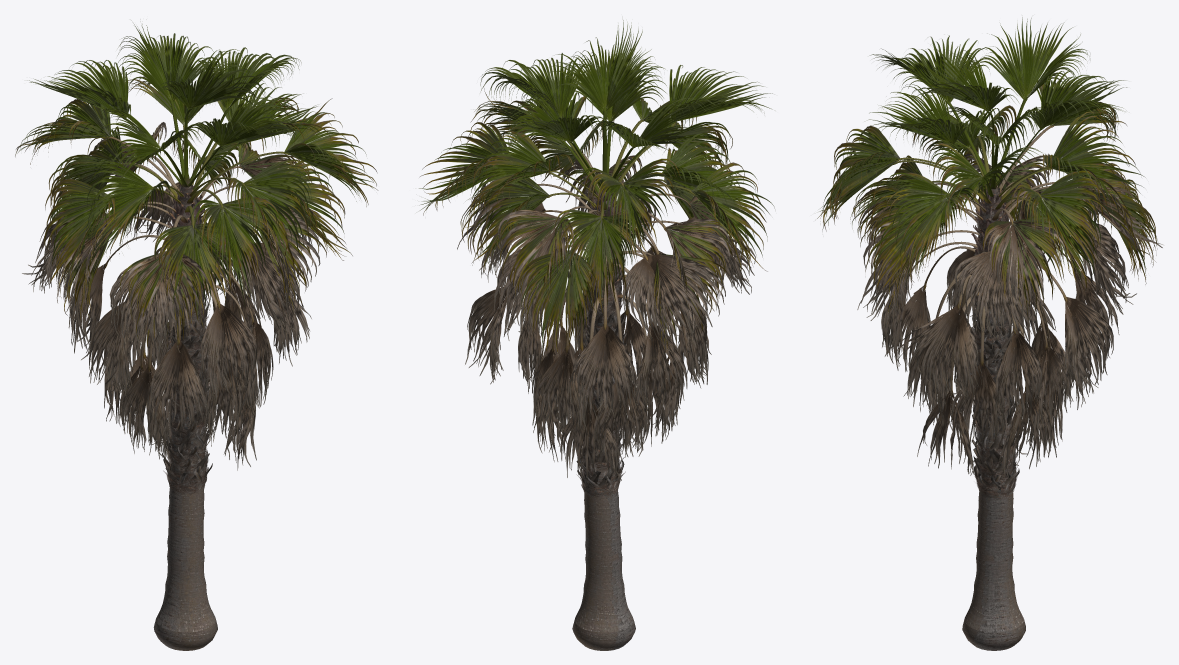
Rendered from palmier-washingtonia-2.glb.
3 renders of one model, left to right at view 1: azimuth 30°, elevation 25°; view 2: azimuth 150°, elevation 25°; view 3: azimuth 270°, elevation 25°, orthographic.
Parts seen in each view (by area): view 1: Washingtonia_Robusta_3; view 2: Washingtonia_Robusta_3; view 3: Washingtonia_Robusta_3.
Boxes of the visible parts, x1=… form: Washingtonia_Robusta_3: x1=15, y1=23, x2=378, y2=650; Washingtonia_Robusta_3: x1=419, y1=20, x2=774, y2=650; Washingtonia_Robusta_3: x1=817, y1=17, x2=1162, y2=650.
Size of the model in its own units: 2.9 by 5.39 by 2.9.
Materials: 7 (7 with a texture image).
